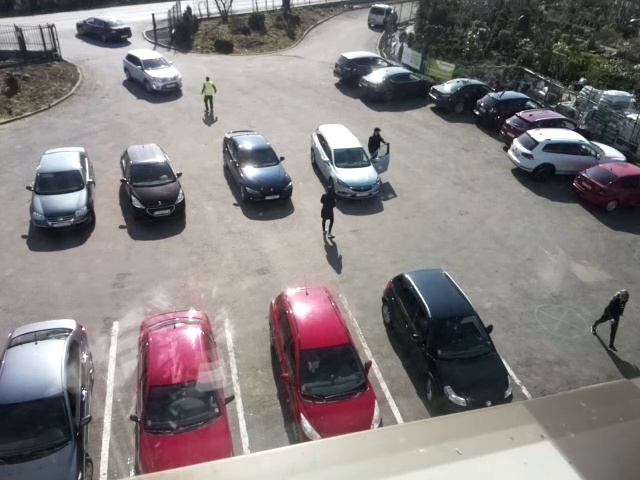car: (270, 283, 384, 446), (381, 268, 509, 411), (136, 311, 234, 476), (1, 317, 92, 479), (312, 123, 388, 203), (31, 148, 96, 233), (509, 131, 628, 177), (224, 128, 294, 205), (122, 141, 184, 223), (574, 163, 640, 211), (501, 111, 590, 145), (122, 50, 182, 92), (429, 78, 503, 112), (360, 67, 435, 99), (476, 94, 551, 124), (335, 53, 402, 81), (77, 16, 133, 44), (367, 3, 398, 29)
